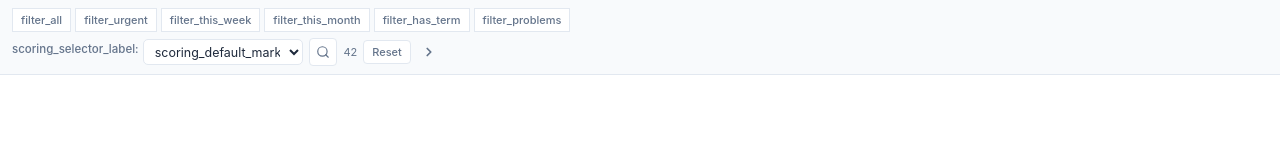
Scenario: InboxFilterBar › shows search input when toggle clicked
The width and height of the screenshot is (1280, 160).
Click the button with test id "inbox-search-toggle" at (323, 52), box [309,38,337,66]
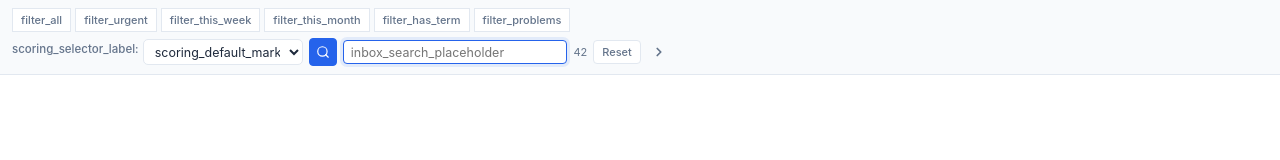
Check: the field with test id "inbox-search-input" is shown, box [343,40,567,64]
